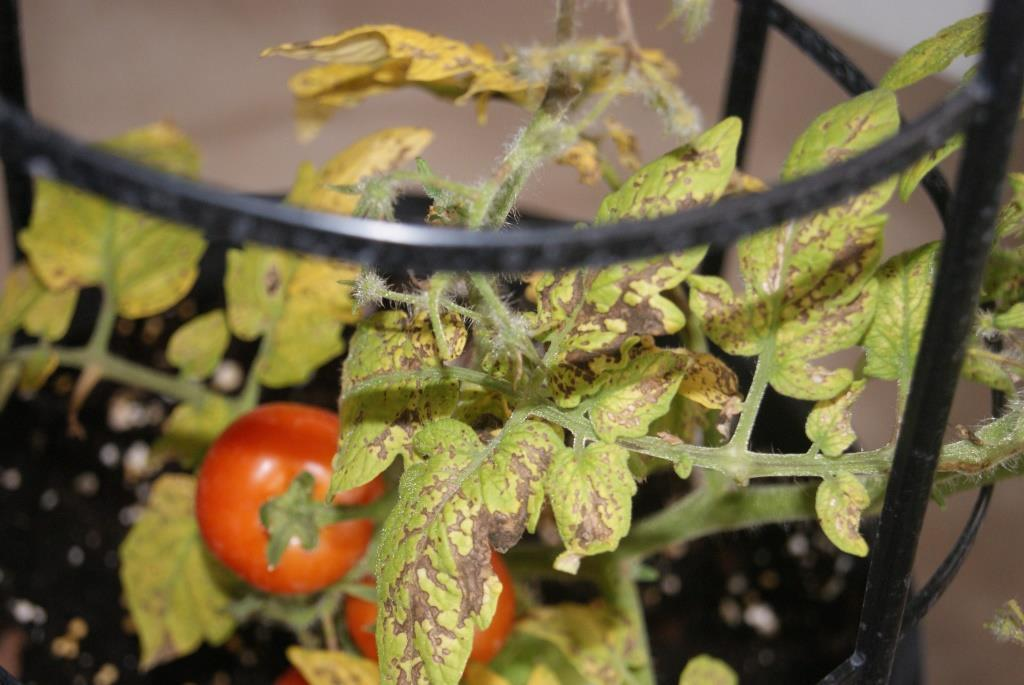Tomato leaf late blight: (698, 87, 904, 421), (539, 101, 763, 369), (367, 394, 570, 674), (330, 301, 459, 495), (550, 433, 641, 574)
